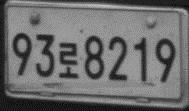1: (133, 36, 148, 82)
2: (107, 35, 128, 81)
3: (35, 33, 55, 77)
8: (83, 35, 105, 79)
9: (154, 38, 177, 82), (11, 31, 32, 75)
로: (56, 41, 80, 79)
